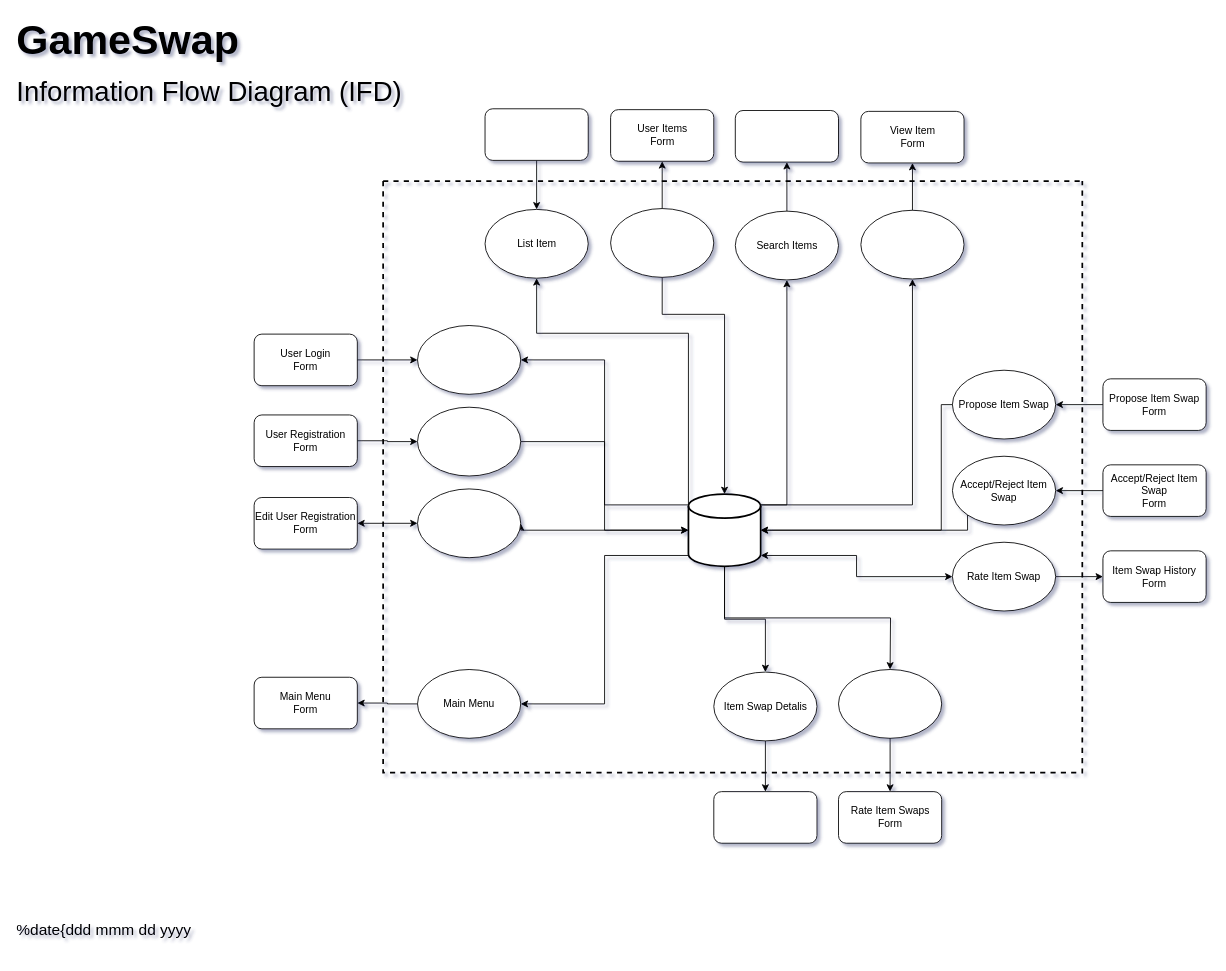
The diagram is 1226 pixels wide and 971 high, and some of its shapes have lost their labels. Each missing label, with the box of its shape:
Edit User Registration: (417, 488, 521, 558)
Item Swap Details Form: (713, 791, 817, 843)
Item Swap History: (838, 669, 942, 738)
LIst Item Form: (484, 108, 588, 160)
Search Items Form: (734, 110, 838, 162)
User Login: (417, 325, 521, 394)
User Registration: (417, 406, 521, 476)
View Item: (860, 209, 964, 279)
View User Items: (610, 208, 714, 277)
